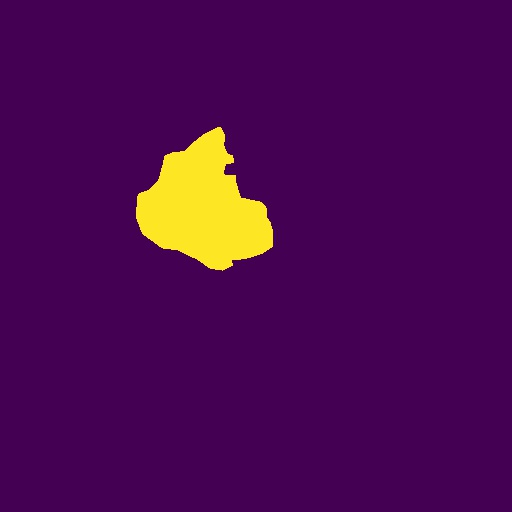Gliomia_tumour: (136, 127, 273, 271)
